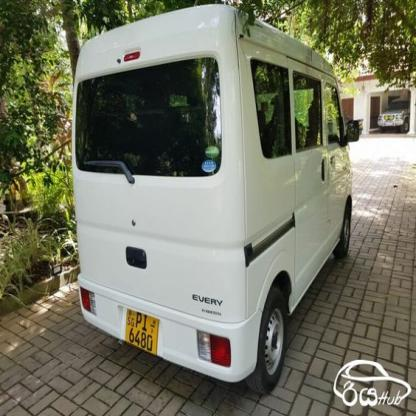number plate: (126, 305, 162, 357)
van back: (72, 2, 362, 385)
